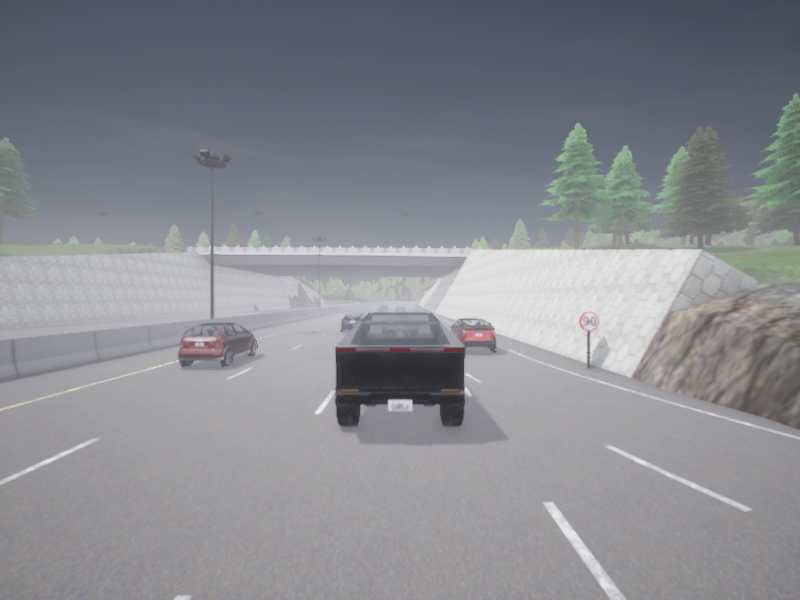vehicle: (335, 312, 464, 426), (178, 322, 256, 366), (448, 318, 496, 351), (341, 312, 365, 330), (413, 305, 422, 311), (394, 307, 406, 311), (379, 305, 388, 310)
